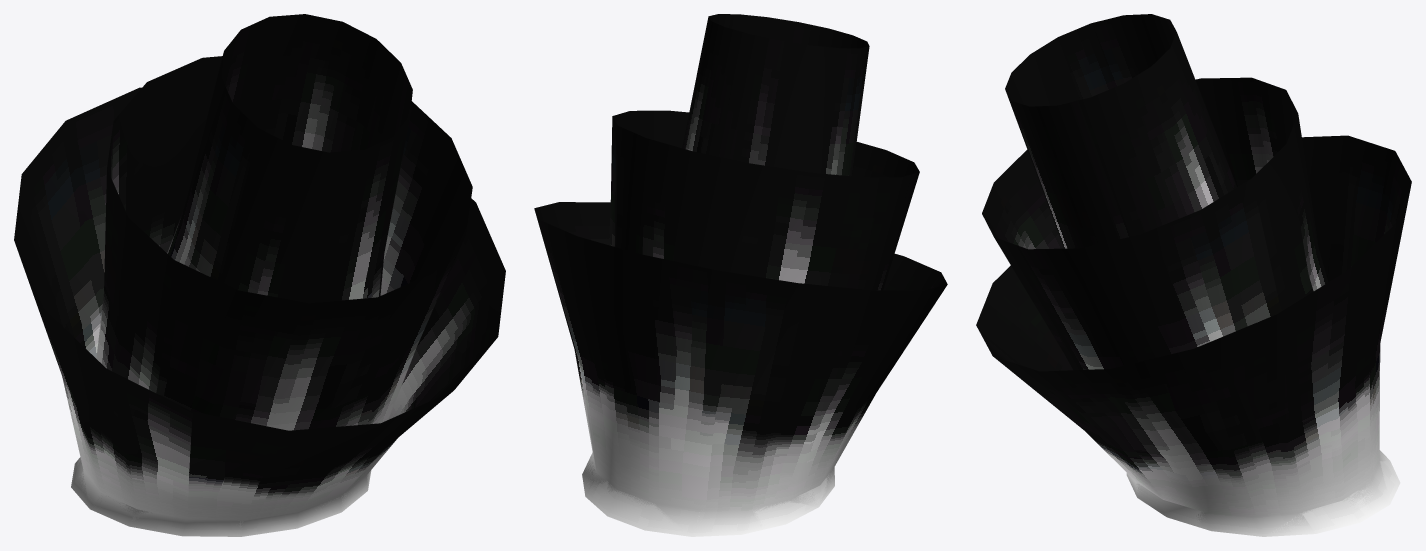
The model's file is Voli_R_Landing.FBX.
3 renders of one model, left to right at view 1: azimuth 30°, elevation 25°; view 2: azimuth 150°, elevation 25°; view 3: azimuth 270°, elevation 25°, orthographic. The views are drawn at different scales.
Parts seen in each view (by area): view 1: transform; view 2: transform; view 3: transform.
Part boxes in pixels (box(x1,y1,x2,y2)): transform: box(14, 14, 505, 536); transform: box(534, 14, 947, 536); transform: box(976, 14, 1411, 536).
Bounding box in the file's own units: 834 × 922 × 806.
